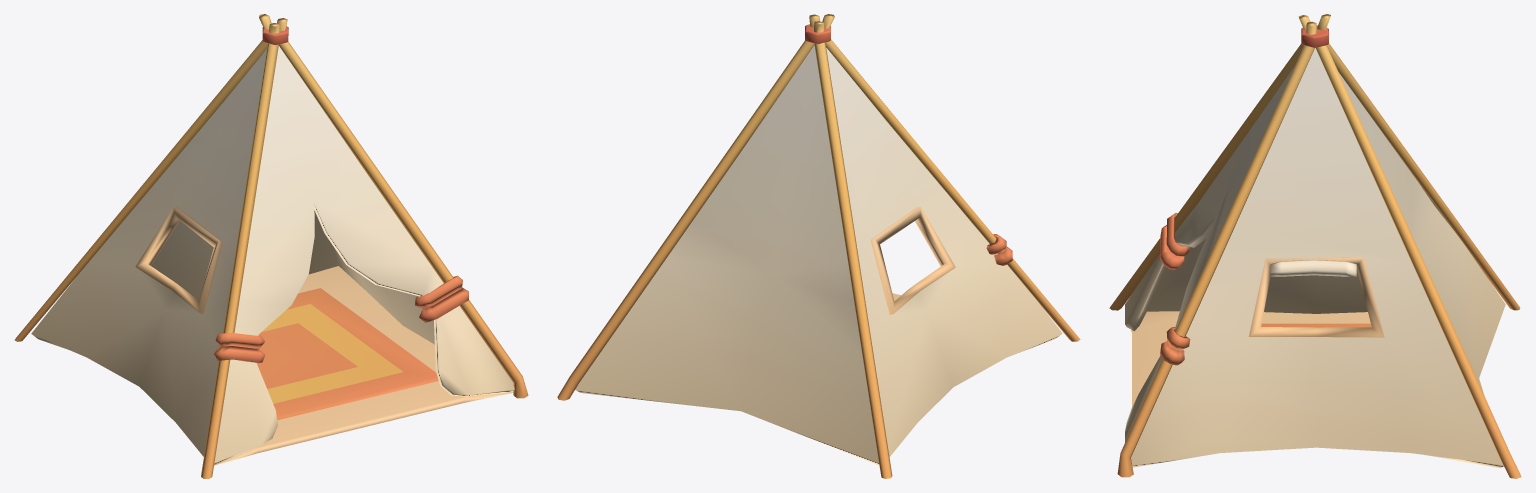
Rendered from Furniture_Decoration_2.fbx.
3 renders of one model, left to right at view 1: azimuth 30°, elevation 25°; view 2: azimuth 150°, elevation 25°; view 3: azimuth 270°, elevation 25°, orthographic. The views are drawn at different scales.
Parts seen in each view (by area): view 1: Furniture_Decoration_2; view 2: Furniture_Decoration_2; view 3: Furniture_Decoration_2.
Boxes of the visible parts, x1,y1,x2,y2 form: Furniture_Decoration_2: (14,14,528,478); Furniture_Decoration_2: (557,14,1080,478); Furniture_Decoration_2: (1109,14,1521,478).
Bounding box in the file's own units: 298 × 300 × 300.
